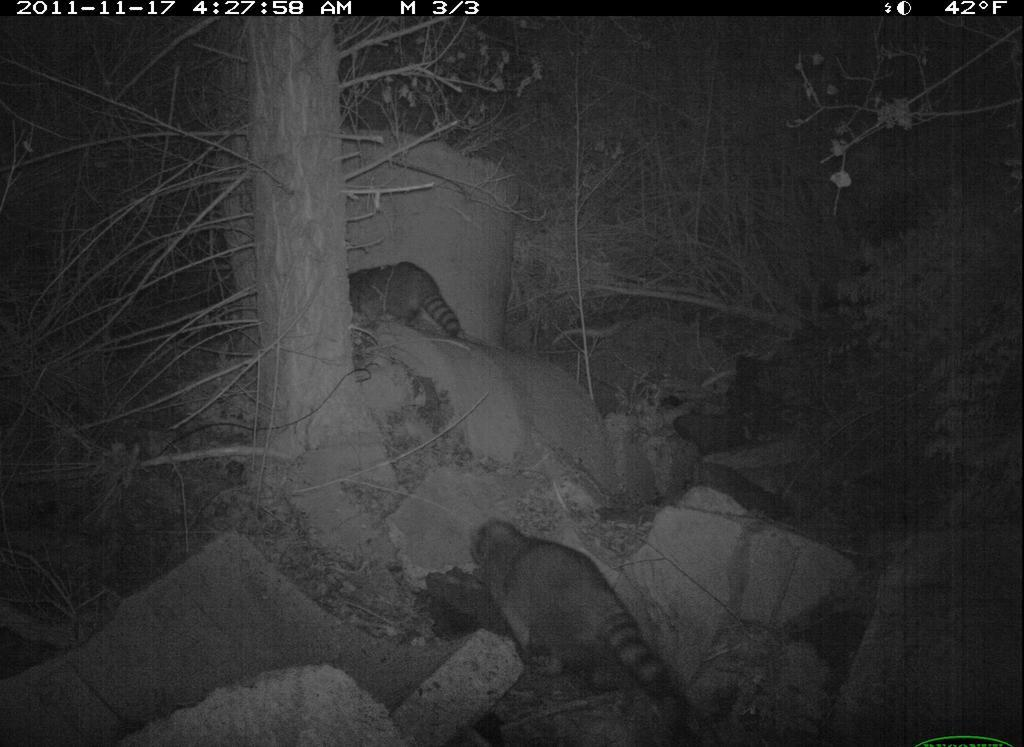raccoon: (461, 505, 719, 744), (342, 254, 479, 353)
